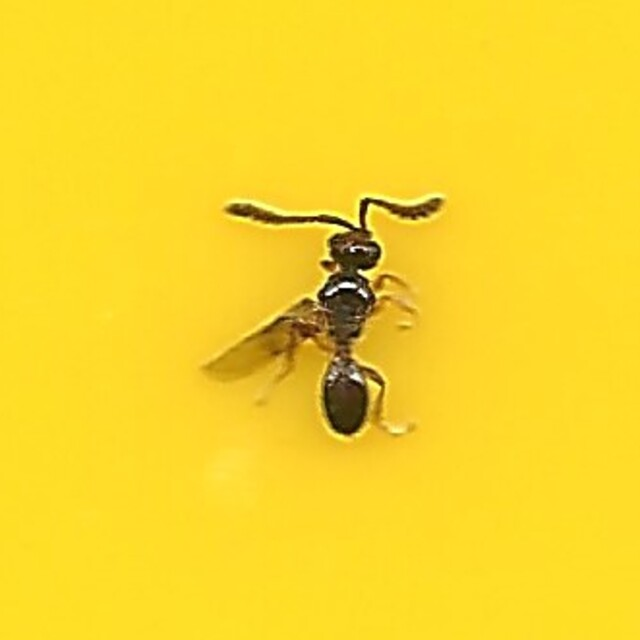Hymenoptera: (193, 188, 447, 452)
